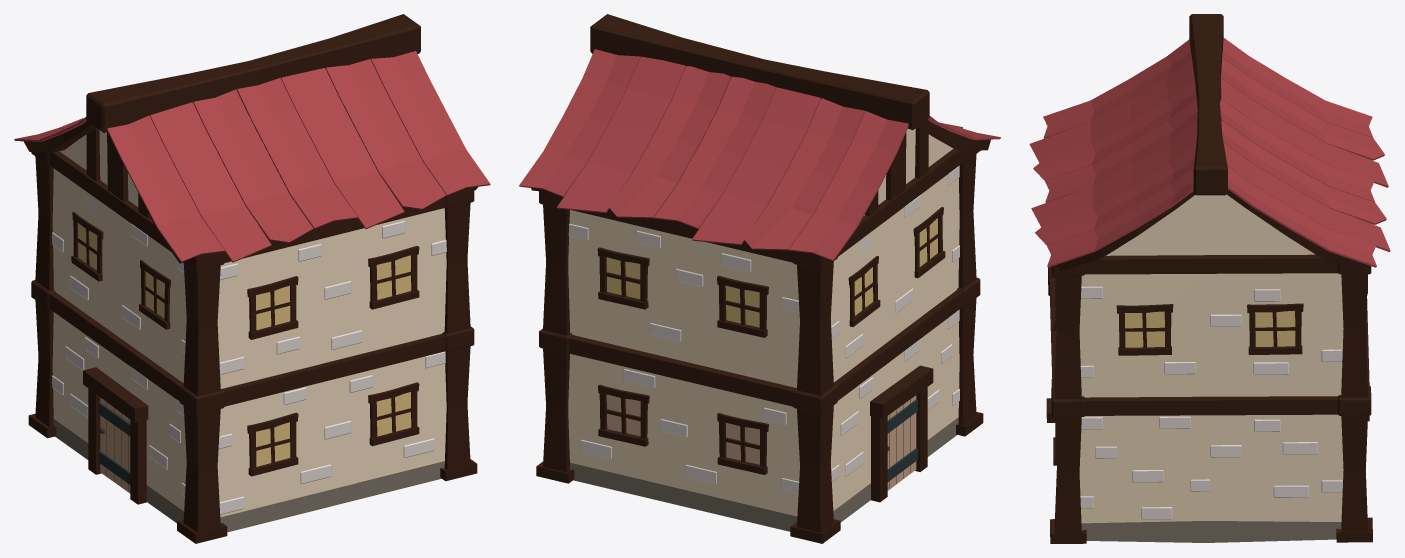
File: house3.fbx
3 renders of one model, left to right at view 1: azimuth 30°, elevation 25°; view 2: azimuth 150°, elevation 25°; view 3: azimuth 270°, elevation 25°, orthographic.
Parts seen in each view (by area): view 1: Buildings.003; view 2: Buildings.003; view 3: Buildings.003.
Part boxes in pixels (<box>): Buildings.003: <box>14,14,490,543</box>; Buildings.003: <box>519,14,1000,543</box>; Buildings.003: <box>1029,14,1390,543</box>.
Size of the model in its own units: 930 by 1091 by 918.
